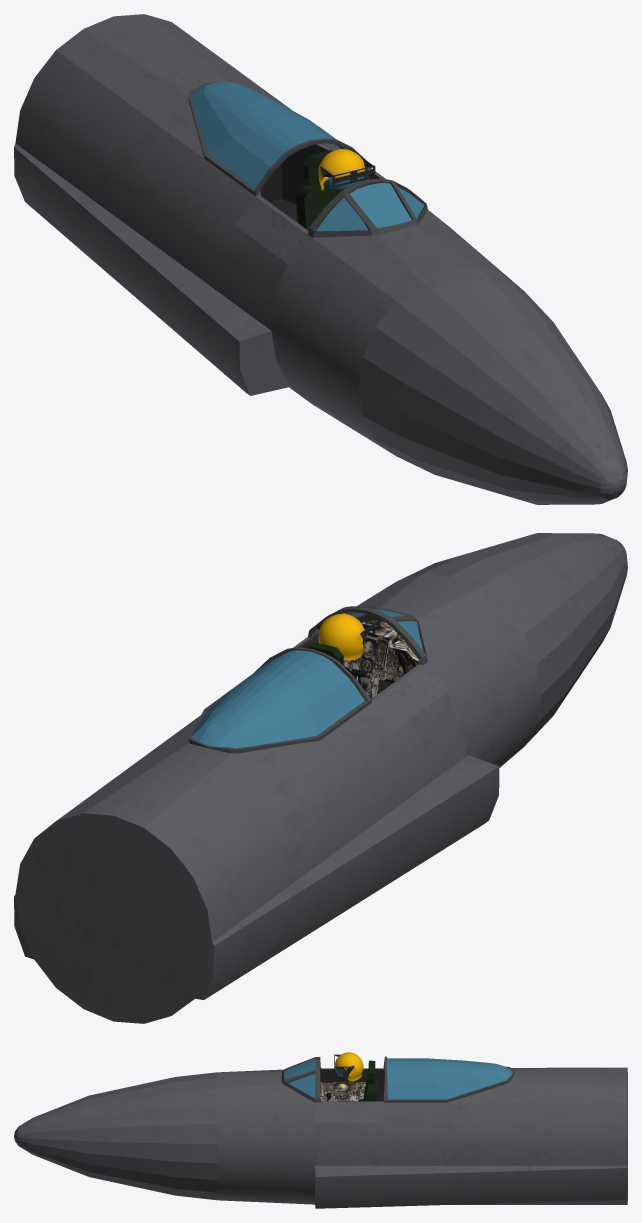
The model's file is AviationVR.glb.
3 views of the same model, one above another, from view 1: azimuth 30°, elevation 25°; view 2: azimuth 150°, elevation 25°; view 3: azimuth 270°, elevation 25° (orthographic). The views are drawn at different scales.
Parts seen in each view (by area): view 1: Aviation; view 2: Aviation; view 3: Aviation.
Part boxes in pixels (x1=…): Aviation: x1=14, y1=14, x2=627, y2=504; Aviation: x1=14, y1=533, x2=627, y2=1023; Aviation: x1=14, y1=1052, x2=627, y2=1208.
Size of the model in its own units: 2.64 by 2.31 by 8.86.
Materials: 1 (1 with a texture image).
